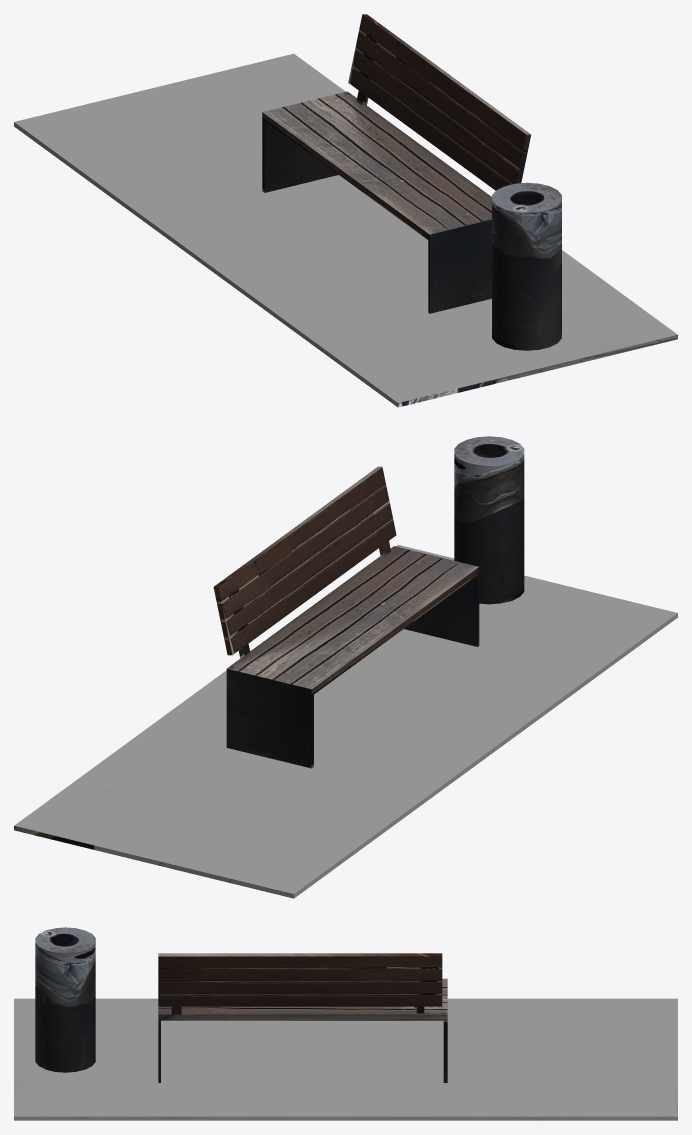
Rendered from banquito.glb.
The picture shows the model from 3 angles, top to bottom: view 1: azimuth 30°, elevation 25°; view 2: azimuth 150°, elevation 25°; view 3: azimuth 270°, elevation 25°; orthographic projection. The views are drawn at different scales.
Visible parts, largest first — view 1: Box003; view 2: Box003; view 3: Box003.
Part boxes in pixels (x1,y1,x2,y2): Box003: [14, 14, 677, 407]; Box003: [14, 436, 677, 898]; Box003: [14, 927, 677, 1120].
Bounding box in the file's own units: 15.09 × 8.25 × 35.85.
1 material, 1 textured.
